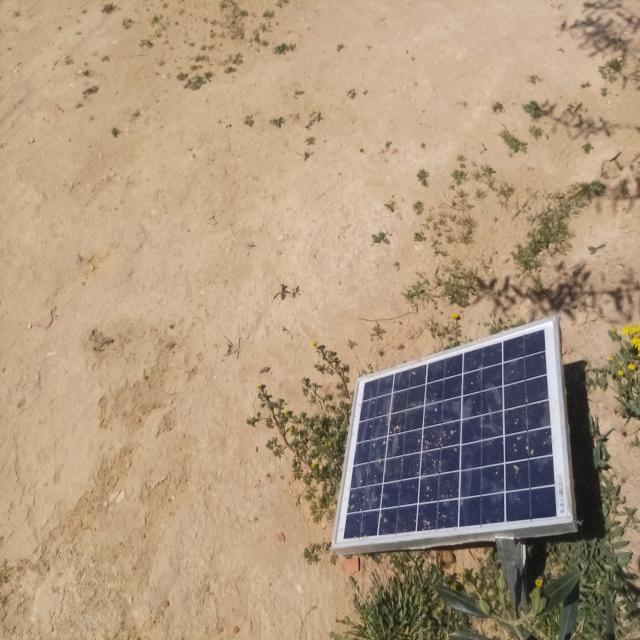faulty: (332, 317, 571, 545)
